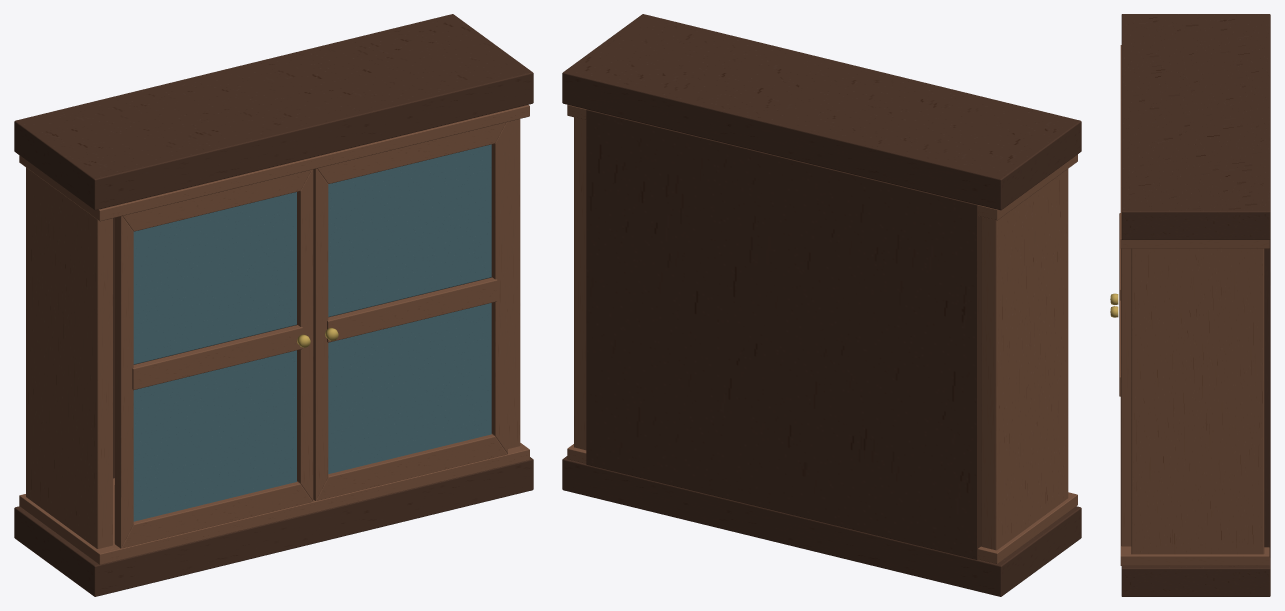
The model's file is WallCabinet_FUR06.fbx.
3 views of the same model, side by side, from view 1: azimuth 30°, elevation 25°; view 2: azimuth 150°, elevation 25°; view 3: azimuth 270°, elevation 25° (orthographic). The views are drawn at different scales.
Parts seen in each view (by area): view 1: WallCabinet; view 2: WallCabinet; view 3: WallCabinet.
Boxes of the visible parts, x1=… form: WallCabinet: x1=14, y1=14, x2=533, y2=596; WallCabinet: x1=562, y1=14, x2=1081, y2=596; WallCabinet: x1=1110, y1=14, x2=1270, y2=596.
Bounding box in the file's own units: 0.88 × 0.8 × 0.301.
1 material, 1 textured.
